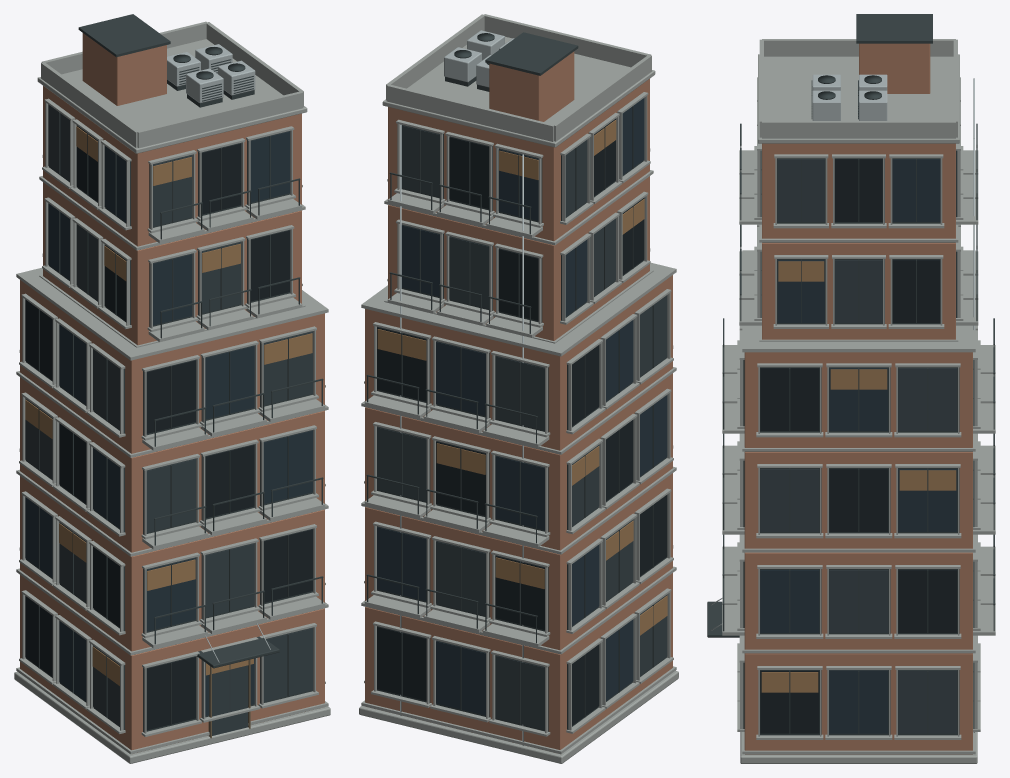
The model's file is site-skyline-brick.glb.
3 views of the same model, side by side, from view 1: azimuth 30°, elevation 25°; view 2: azimuth 150°, elevation 25°; view 3: azimuth 270°, elevation 25° (orthographic). The views are drawn at different scales.
Parts seen in each view (by area): view 1: site-skyline-brick_Honed_grey_sandstone, site-skyline-brick_Terracotta_brick, site-skyline-brick_Interior_shadow_glazing, site-skyline-brick_Smoked_architectural_glass, site-skyline-brick_Blue_reflective_glazing, site-skyline-brick_Anthracite_anodized_metal, site-skyline-brick_Weathered_warm_teak, site-skyline-brick_Galvanized_brushed_steel; view 2: site-skyline-brick_Honed_grey_sandstone, site-skyline-brick_Terracotta_brick, site-skyline-brick_Blue_reflective_glazing, site-skyline-brick_Smoked_architectural_glass, site-skyline-brick_Interior_shadow_glazing, site-skyline-brick_Anthracite_anodized_metal, site-skyline-brick_Weathered_warm_teak, site-skyline-brick_Galvanized_brushed_steel; view 3: site-skyline-brick_Honed_grey_sandstone, site-skyline-brick_Terracotta_brick, site-skyline-brick_Smoked_architectural_glass, site-skyline-brick_Interior_shadow_glazing, site-skyline-brick_Blue_reflective_glazing, site-skyline-brick_Anthracite_anodized_metal, site-skyline-brick_Weathered_warm_teak, site-skyline-brick_Galvanized_brushed_steel.
Boxes of the visible parts, x1,y1,x2,y2 form: site-skyline-brick_Honed_grey_sandstone: [14, 21, 330, 763]; site-skyline-brick_Terracotta_brick: [20, 33, 324, 752]; site-skyline-brick_Interior_shadow_glazing: [25, 125, 312, 730]; site-skyline-brick_Smoked_architectural_glass: [25, 104, 312, 735]; site-skyline-brick_Blue_reflective_glazing: [25, 131, 312, 715]; site-skyline-brick_Anthracite_anodized_metal: [26, 14, 323, 731]; site-skyline-brick_Weathered_warm_teak: [25, 126, 312, 685]; site-skyline-brick_Galvanized_brushed_steel: [167, 44, 270, 662]; site-skyline-brick_Honed_grey_sandstone: [359, 14, 678, 763]; site-skyline-brick_Terracotta_brick: [365, 51, 672, 752]; site-skyline-brick_Blue_reflective_glazing: [377, 98, 667, 715]; site-skyline-brick_Smoked_architectural_glass: [377, 125, 667, 729]; site-skyline-brick_Interior_shadow_glazing: [377, 118, 667, 725]; site-skyline-brick_Anthracite_anodized_metal: [366, 32, 666, 731]; site-skyline-brick_Weathered_warm_teak: [377, 120, 667, 635]; site-skyline-brick_Galvanized_brushed_steel: [400, 30, 523, 745]; site-skyline-brick_Honed_grey_sandstone: [722, 39, 995, 763]; site-skyline-brick_Terracotta_brick: [744, 43, 972, 754]; site-skyline-brick_Smoked_architectural_glass: [760, 159, 957, 733]; site-skyline-brick_Interior_shadow_glazing: [760, 159, 957, 733]; site-skyline-brick_Blue_reflective_glazing: [760, 159, 957, 733]; site-skyline-brick_Anthracite_anodized_metal: [707, 14, 994, 735]; site-skyline-brick_Weathered_warm_teak: [761, 261, 956, 692]; site-skyline-brick_Galvanized_brushed_steel: [710, 74, 974, 732].
Bounding box in the file's own units: 6.82 × 20.77 × 8.07.
